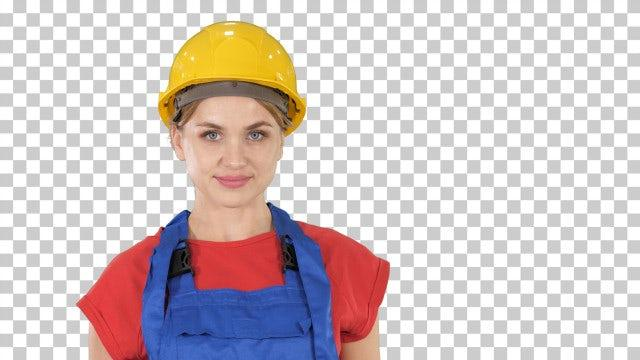helmet: (157, 21, 307, 141)
